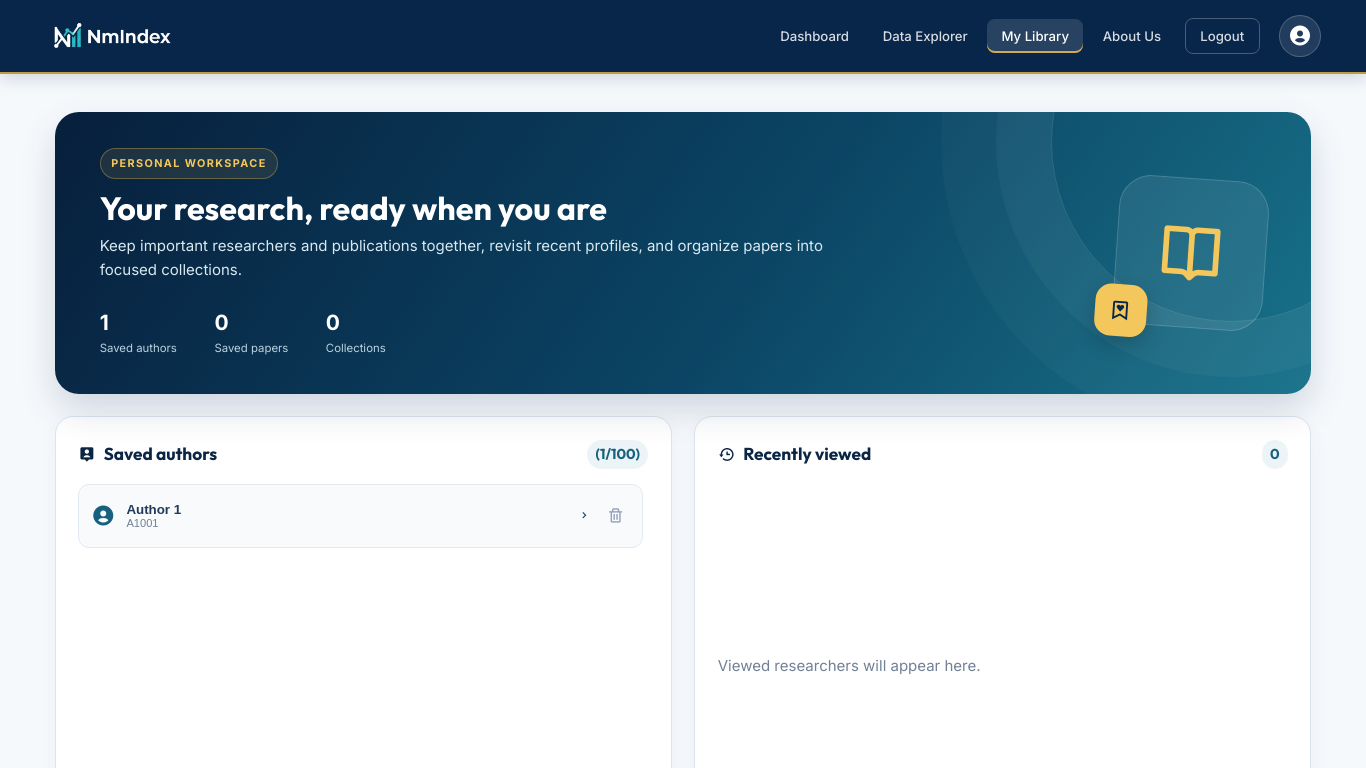
Test case: a failed removal is reported and the author stays
Click the button named "Remove Author 1 from saved authors" at (616, 516), box [598,499,632,533]
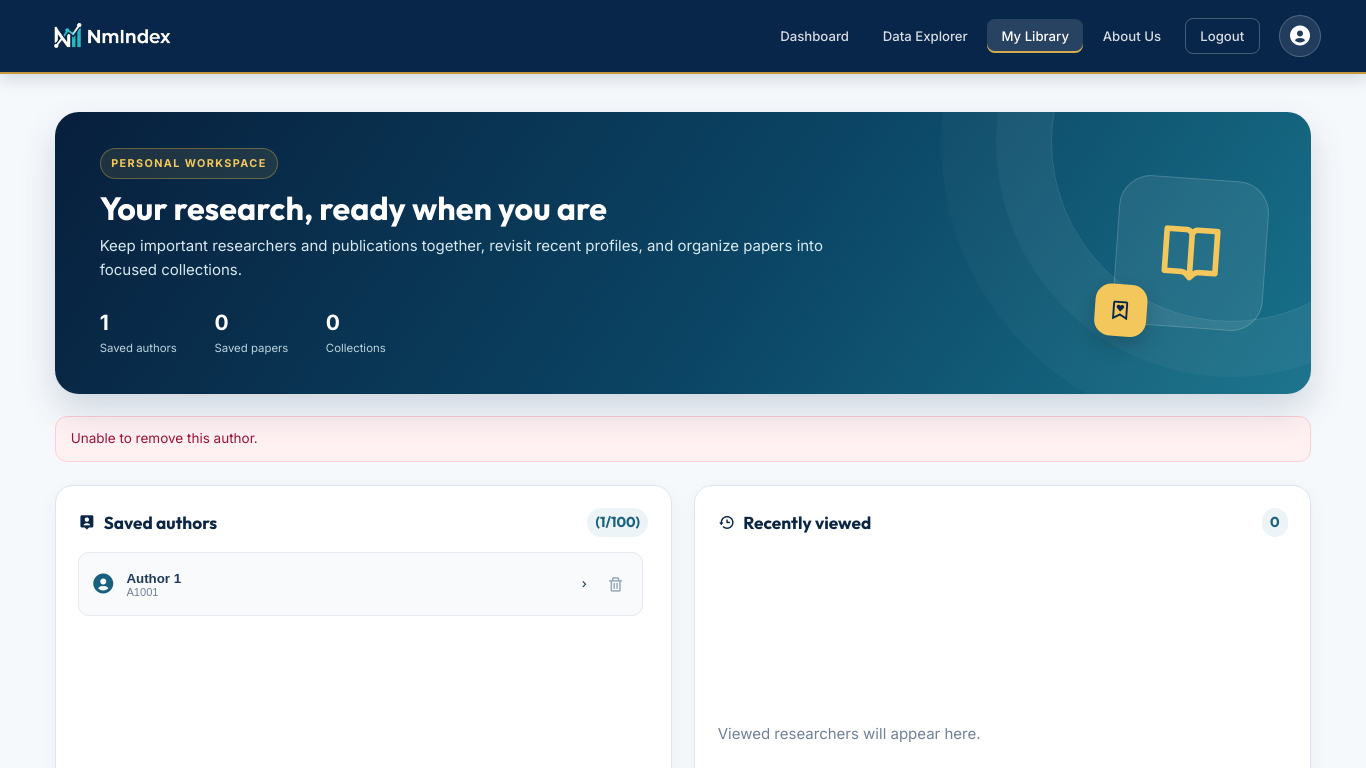
Expected: the text "Author 1" is shown, [126,571,181,586]
Now the message reads "Unable to remove this author.", box [71,430,258,446]
